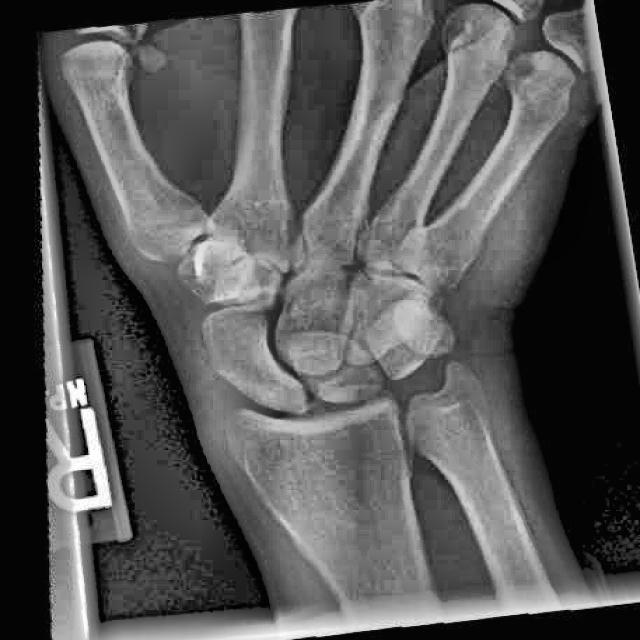fingers positive: (383, 358, 519, 470)
